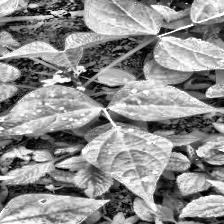Bean Rust: (80, 126, 172, 210), (0, 85, 100, 135), (111, 82, 207, 121), (0, 192, 109, 224), (153, 37, 224, 72)
